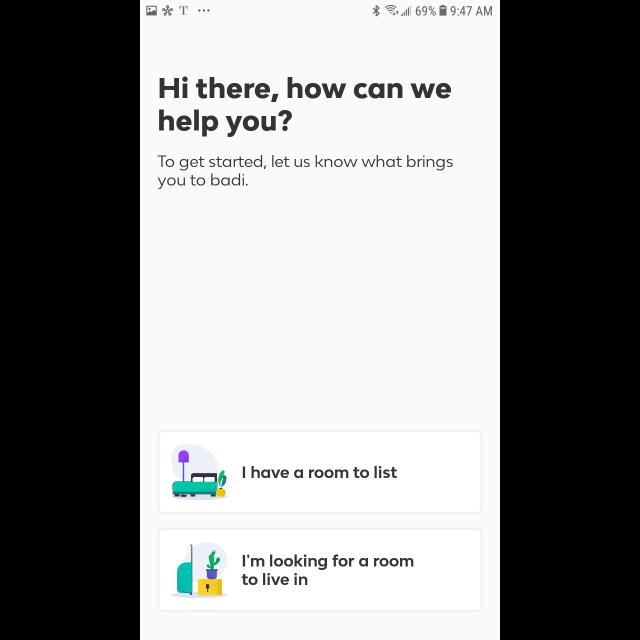image: (172, 542, 228, 598), (172, 444, 228, 500)
text: (160, 77, 452, 137), (158, 155, 452, 189), (242, 554, 414, 586), (243, 466, 397, 478)
textbutton: (158, 528, 482, 612), (158, 430, 482, 514)
uppertaskbar: (140, 1, 500, 17)
